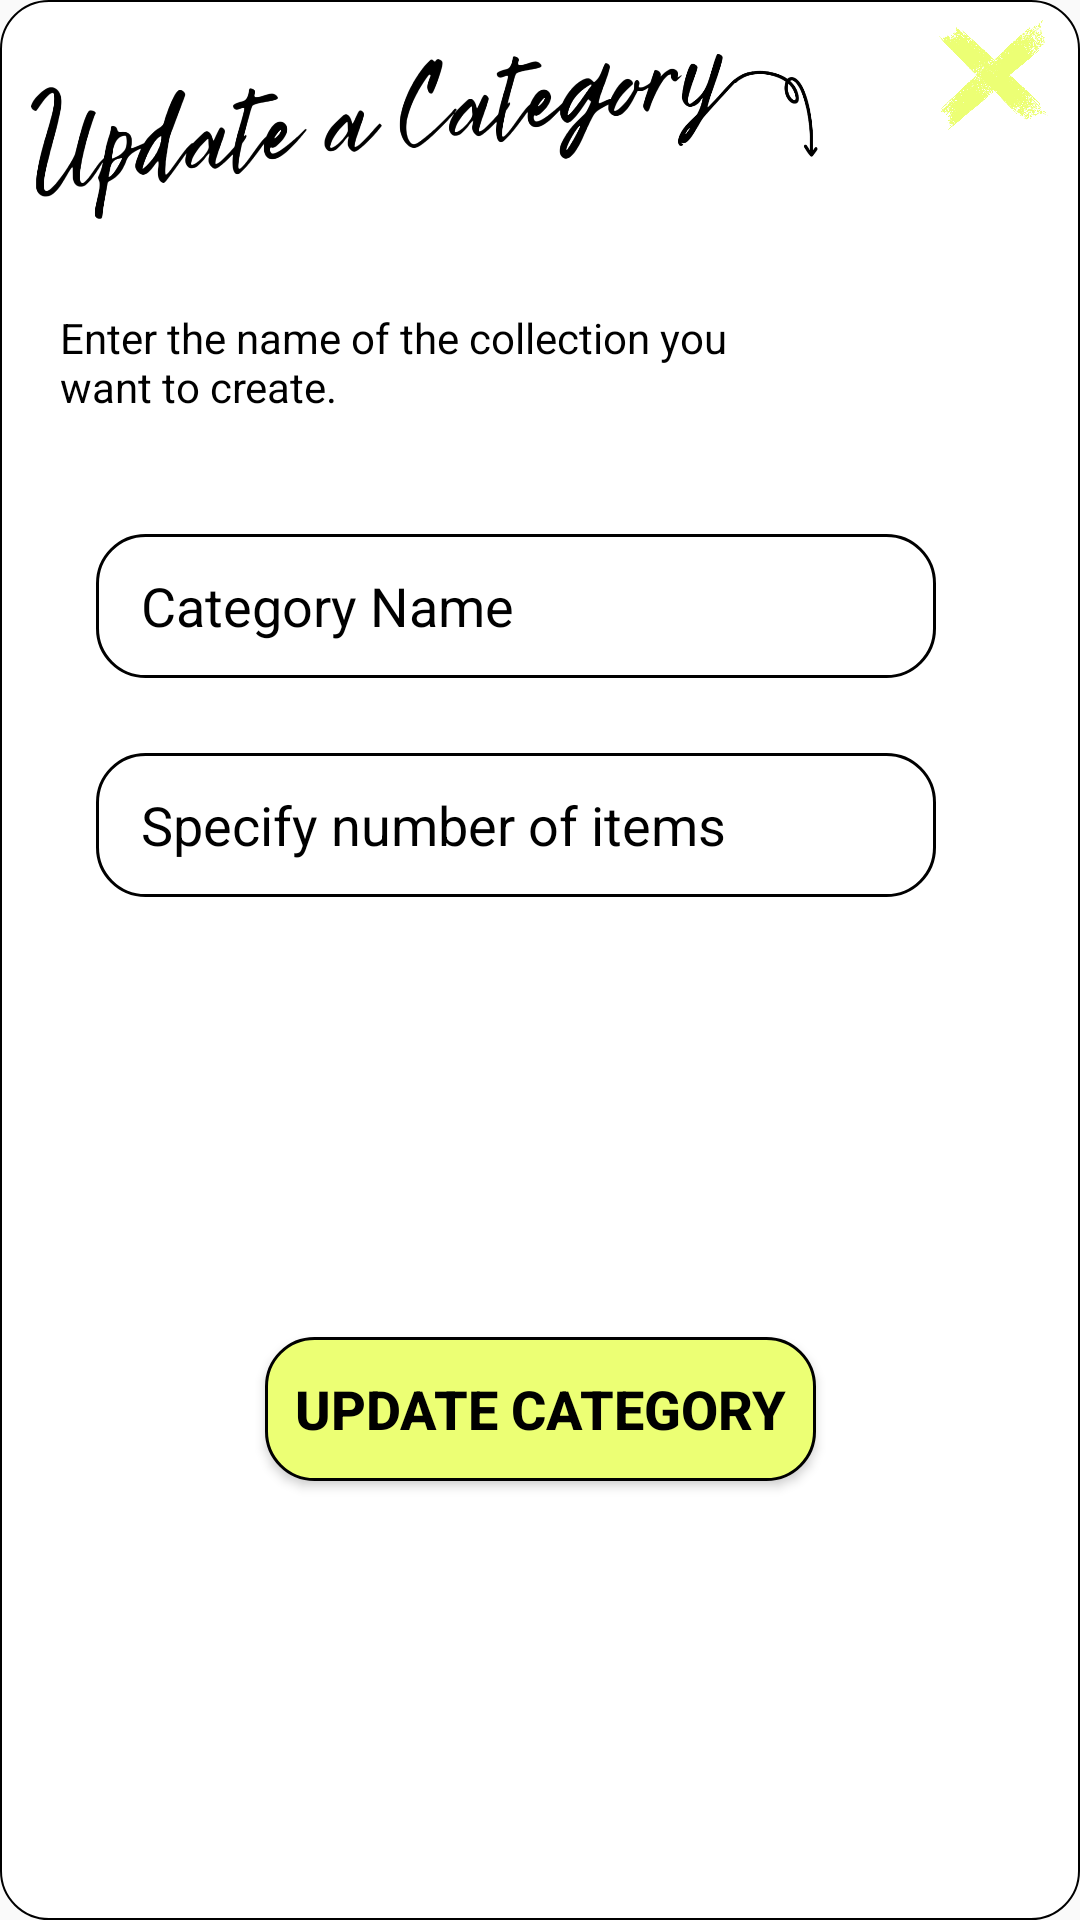

Icon bounding boxes for this 1080 × 1920 phone screenshot, format (x1, y1, x2, y2):
highlighter cross: (939, 20, 1048, 130)
